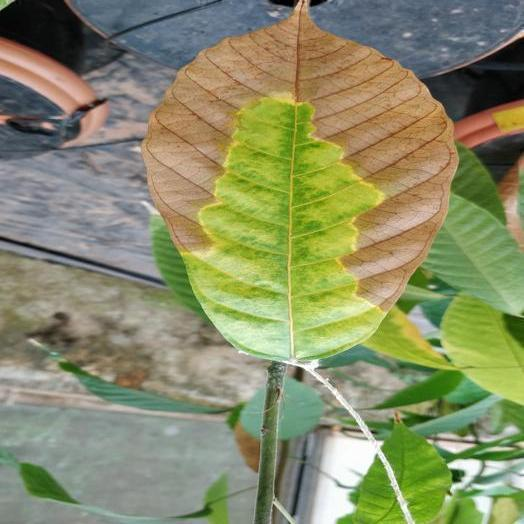Potassium: (143, 0, 457, 364)
